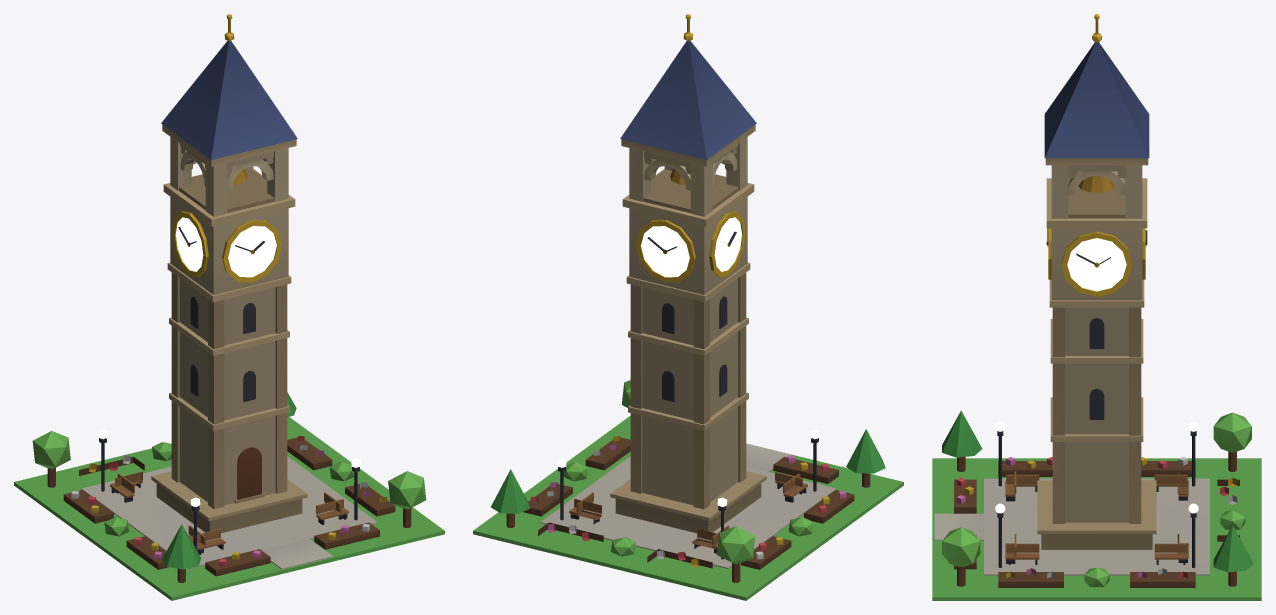
File: bl_clocktower.glb
The picture shows the model from 3 angles, left to right: view 1: azimuth 30°, elevation 25°; view 2: azimuth 150°, elevation 25°; view 3: azimuth 270°, elevation 25°; orthographic projection. The views are drawn at different scales.
Visible parts, largest first — view 1: clocktower; view 2: clocktower; view 3: clocktower.
Boxes of the visible parts, left/top/right/bottom form: clocktower: left=14, top=14, right=444, bottom=600; clocktower: left=473, top=14, right=903, bottom=600; clocktower: left=932, top=14, right=1261, bottom=600.
Bounding box in the file's own units: 16 × 27.76 × 16.
